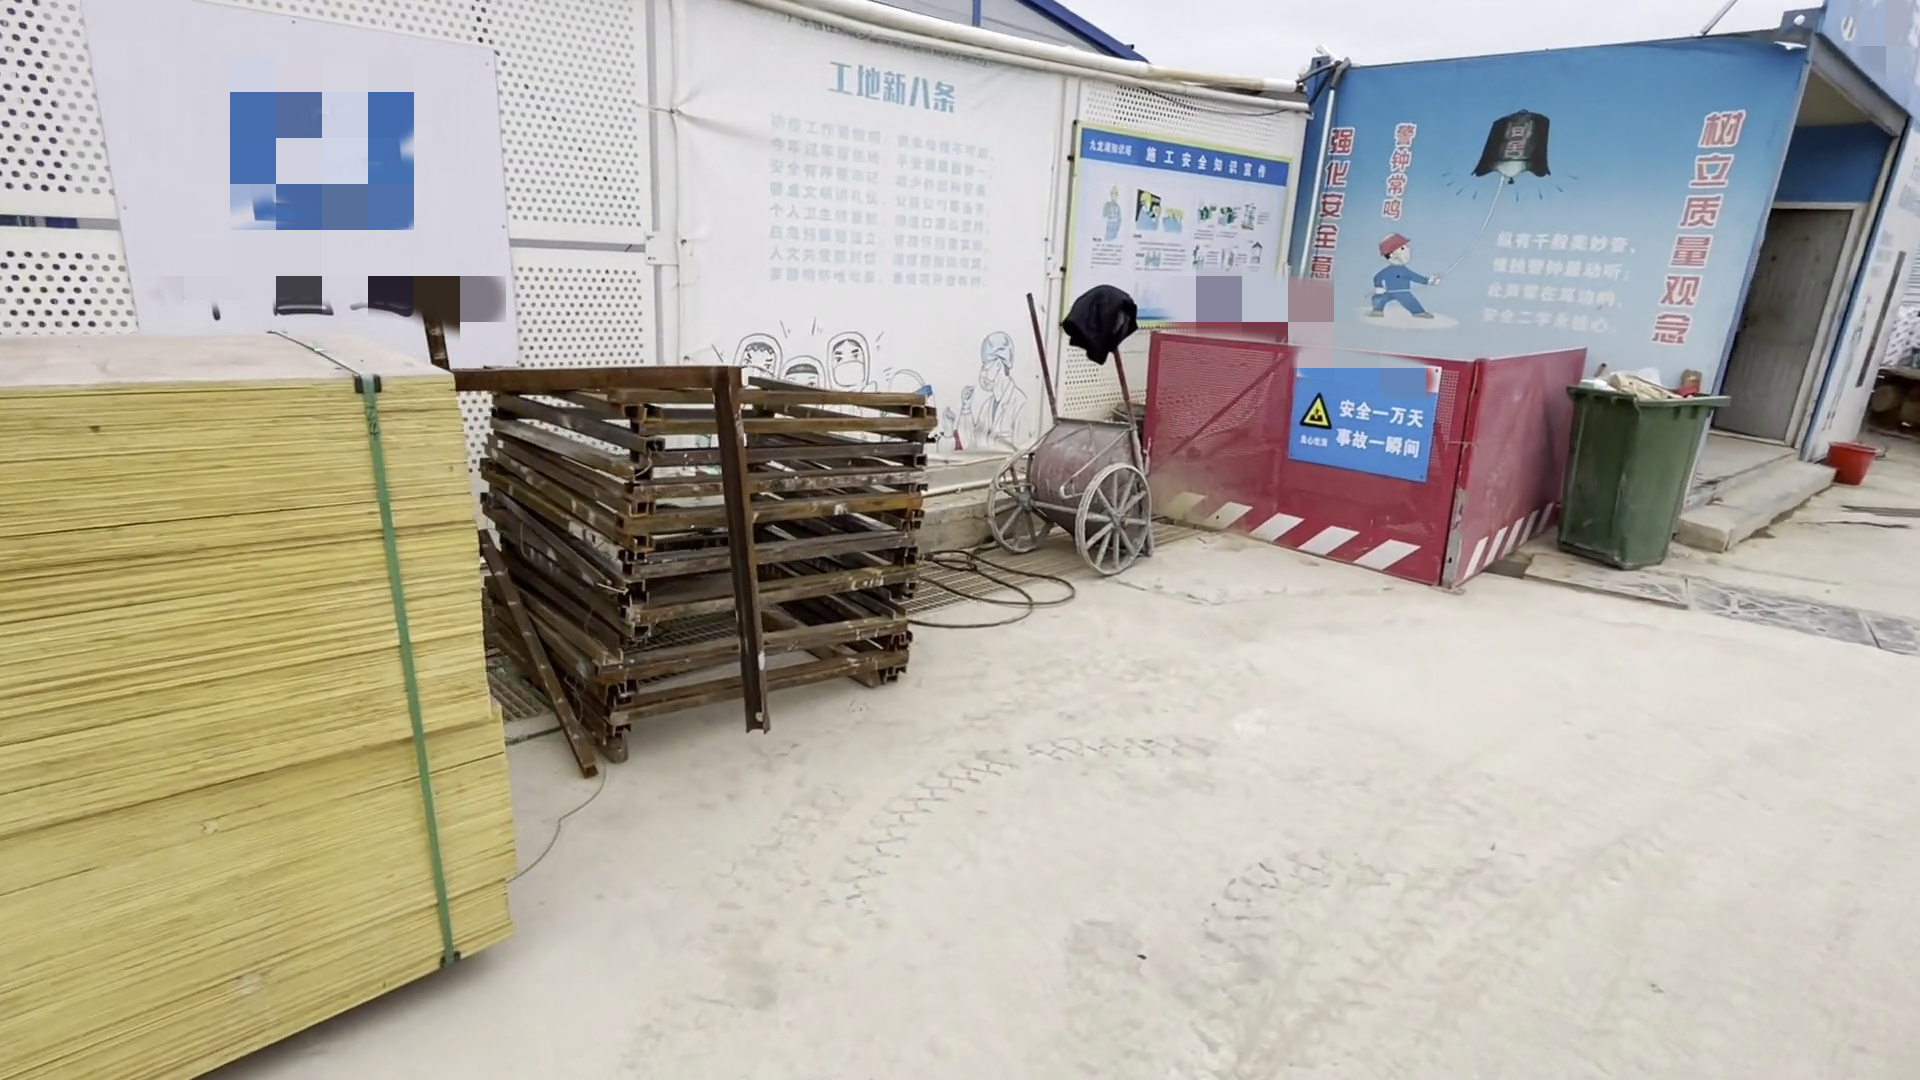board: (7, 344, 539, 1080)
handcart: (997, 277, 1167, 583)
slogan: (1295, 382, 1452, 479)
